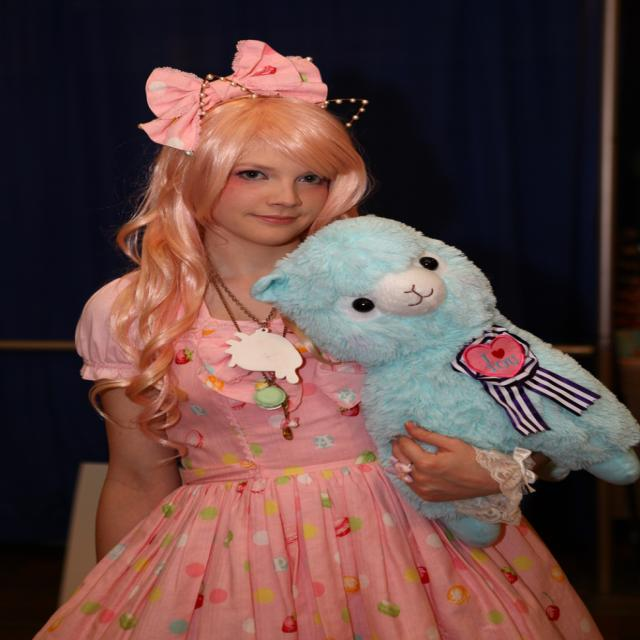Toy: (233, 203, 614, 502)
